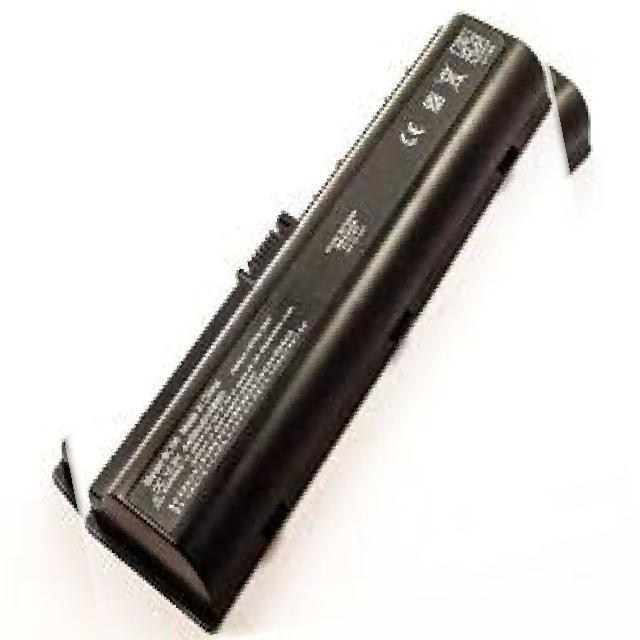Battery: (81, 4, 556, 640)
